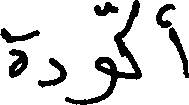أ: (166, 1, 186, 77)
ة: (0, 25, 28, 78)
د: (37, 54, 66, 89)
ك: (114, 0, 138, 86)
و: (66, 50, 116, 103)
